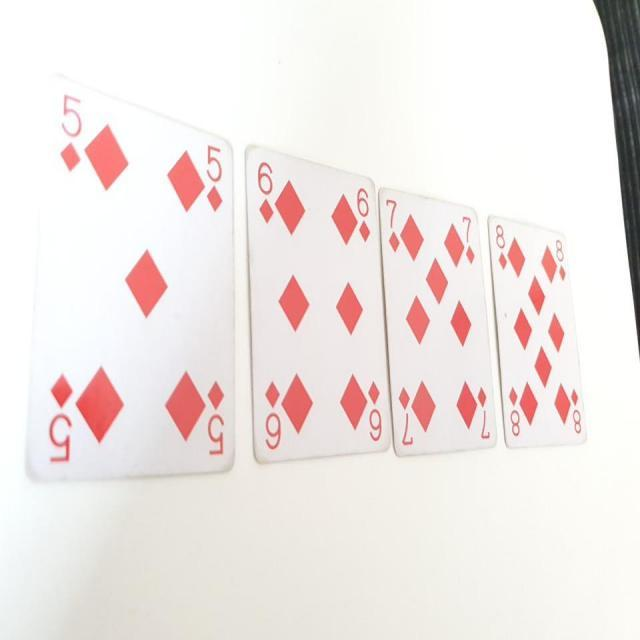5 of diamonds: (17, 64, 240, 481)
6 of diamonds: (242, 143, 392, 464)
7 of diamonds: (378, 185, 498, 456)
8 of diamonds: (486, 215, 586, 449)
